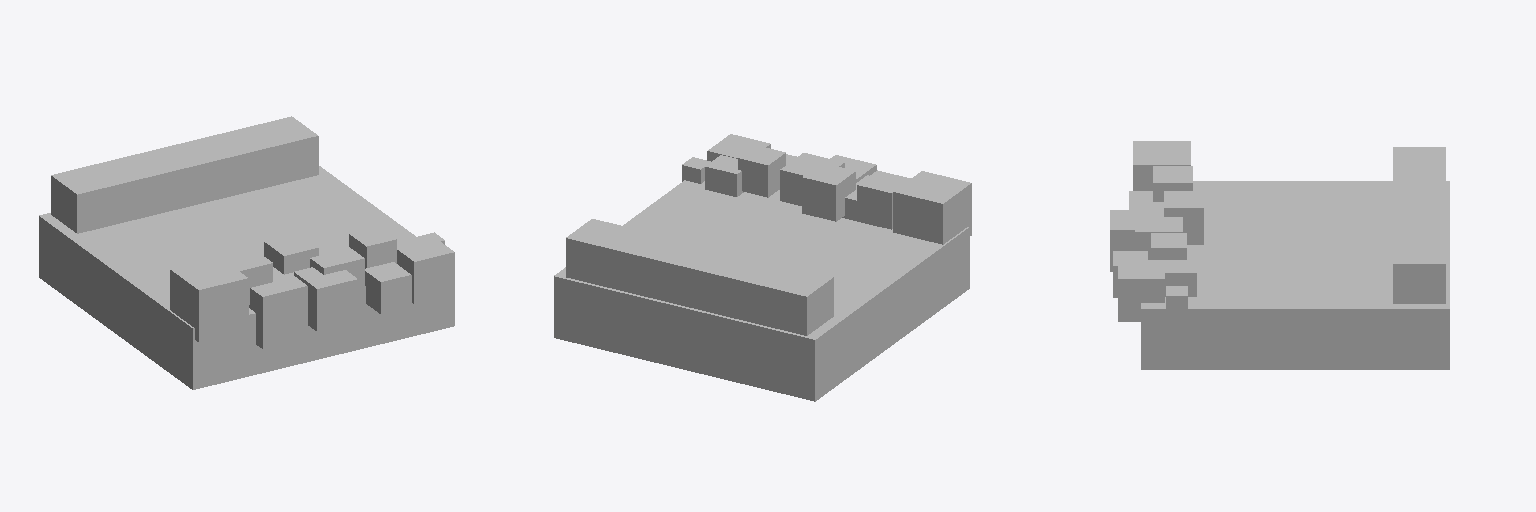
The model's file is platform1new.obj.
3 renders of one model, left to right at view 1: azimuth 30°, elevation 25°; view 2: azimuth 150°, elevation 25°; view 3: azimuth 270°, elevation 25°, orthographic.
Visible parts, largest first — view 1: Cube; view 2: Cube; view 3: Cube.
Part boxes in pixels (x1,y1,x2,y2): Cube: (39, 116, 454, 389); Cube: (554, 134, 971, 401); Cube: (1110, 141, 1449, 369).
Size of the model in its own units: 5.86 by 2.17 by 6.51.